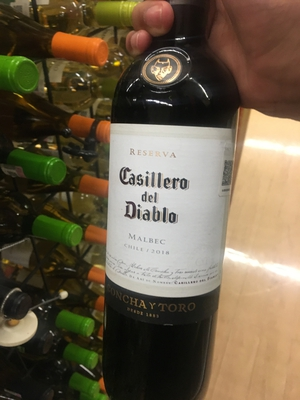casillero del diablo malbec: (100, 48, 251, 400)
